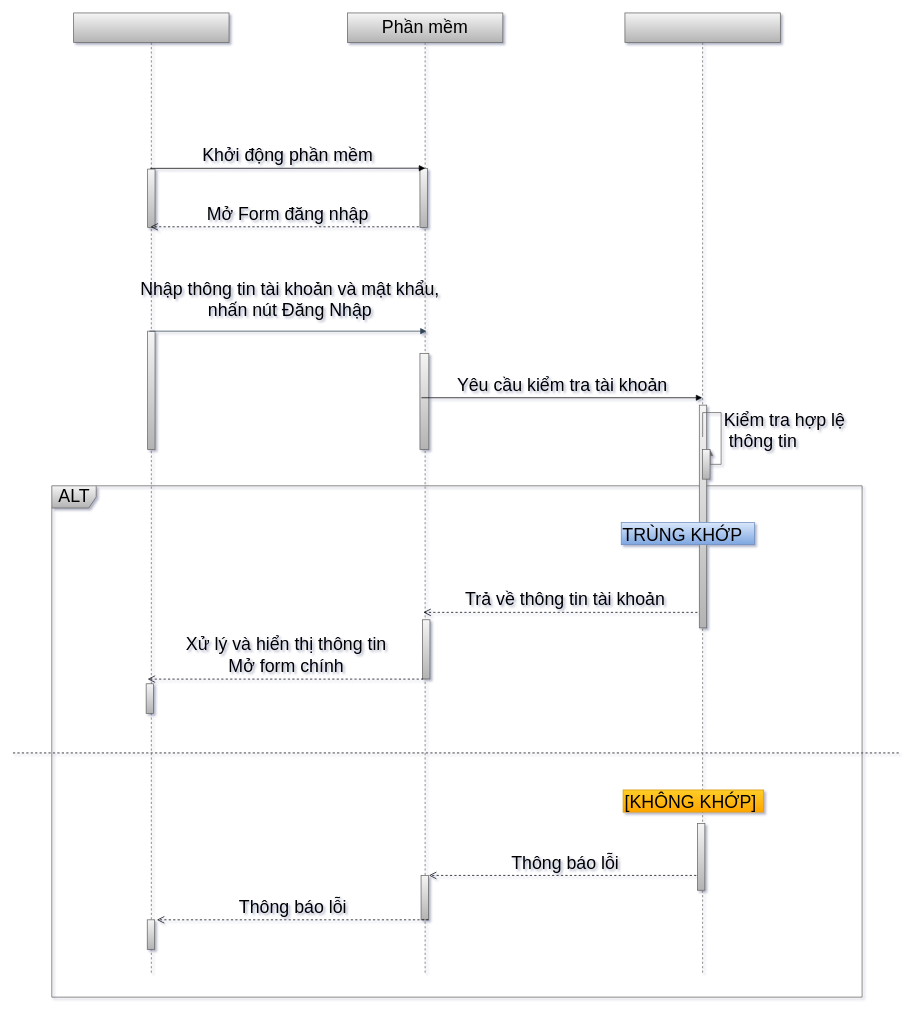
This 919x1015 diagram has some shape labels left out. Here are the shapes that lost their labels. From the top down, the box of each, then its label:
(73, 12, 229, 975): Chủ trọ / Quản lý
(624, 12, 780, 975): Hệ thống
